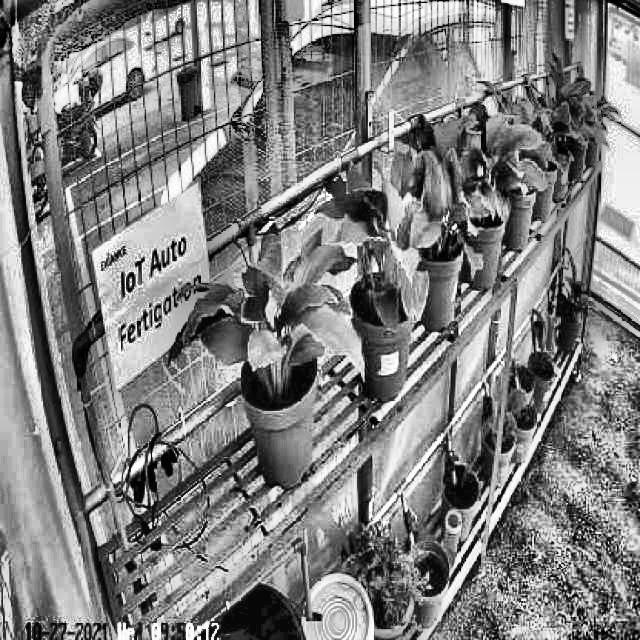plants: (165, 226, 368, 406), (323, 167, 429, 335), (384, 134, 488, 286), (450, 106, 552, 219)
